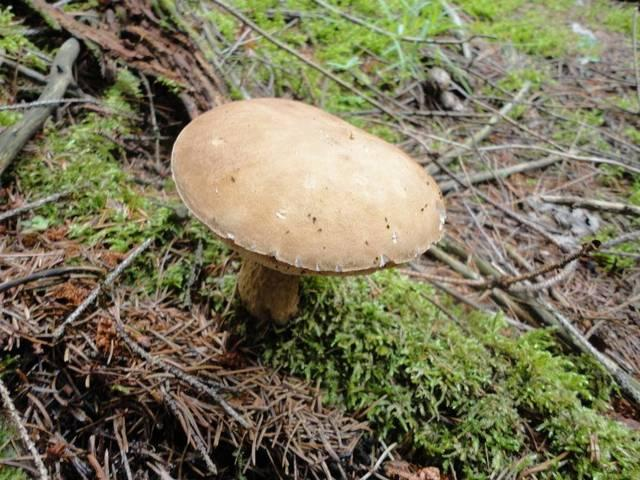Non-edible Mushroom: (168, 95, 447, 327)
